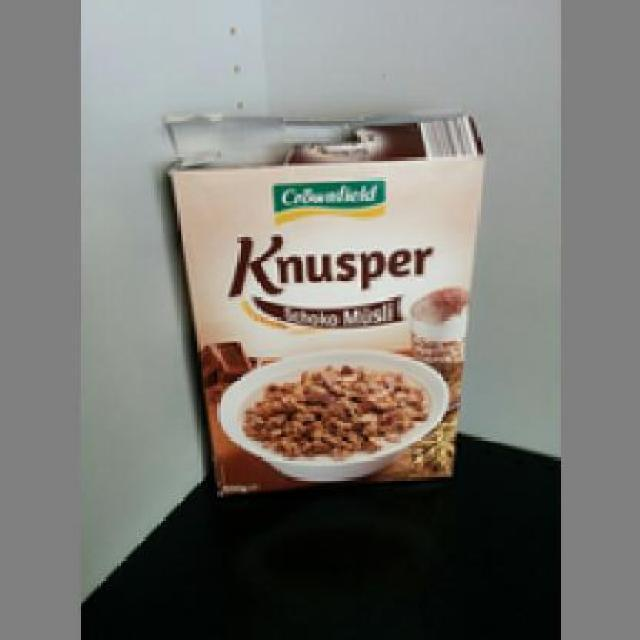Cereal: (162, 113, 488, 490)
